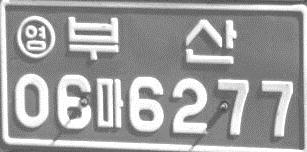0: (13, 73, 49, 128)
2: (171, 77, 208, 134)
6: (56, 73, 92, 130), (128, 75, 163, 132)
7: (260, 80, 294, 139), (216, 78, 249, 136)
마: (94, 77, 124, 128)
부산_D: (67, 14, 237, 65)
영: (16, 14, 54, 59)
